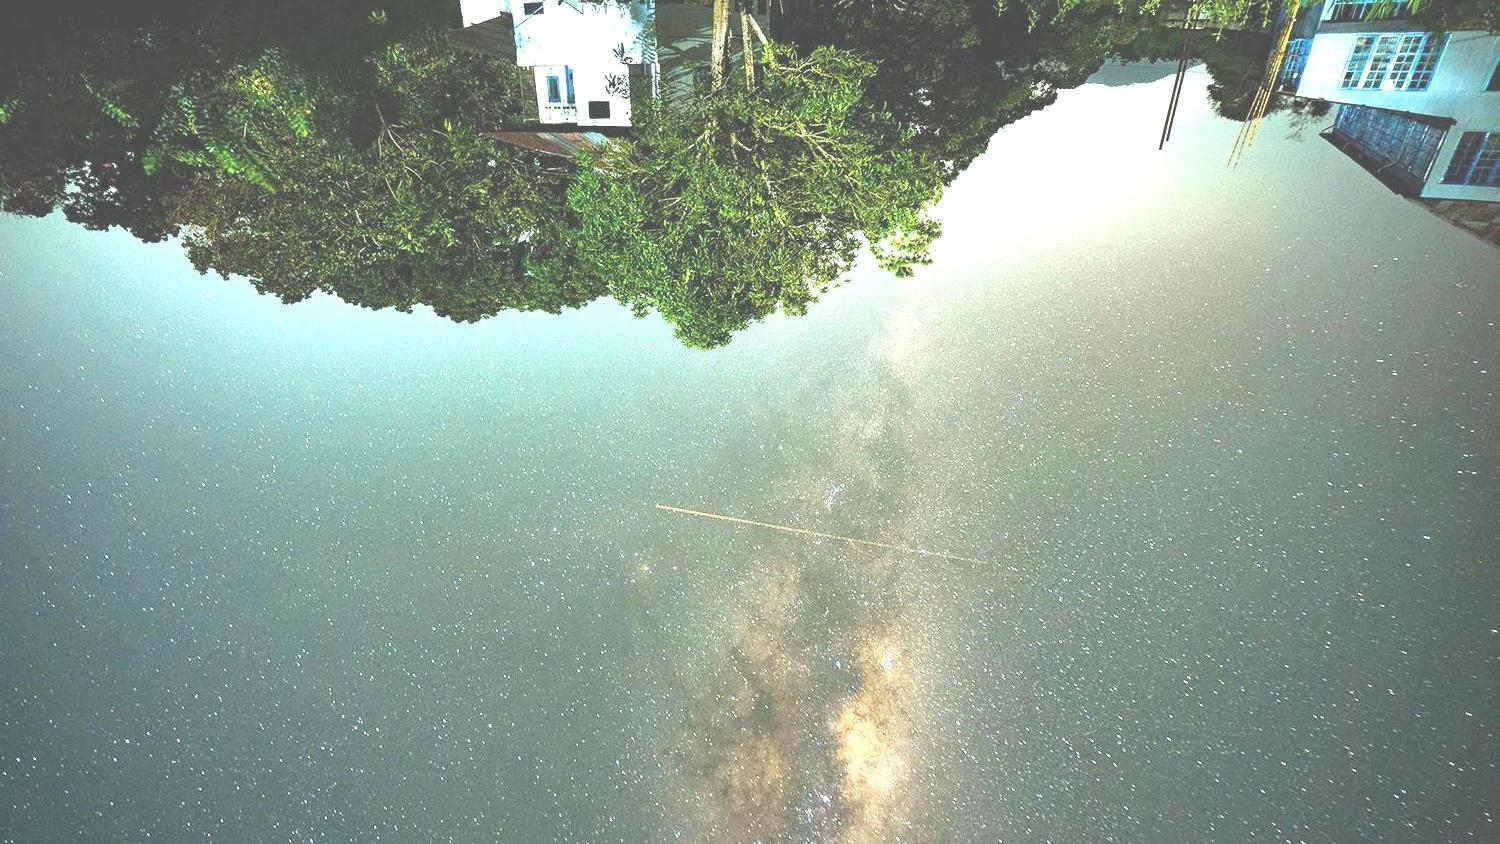meteorite: (633, 495, 851, 543)
